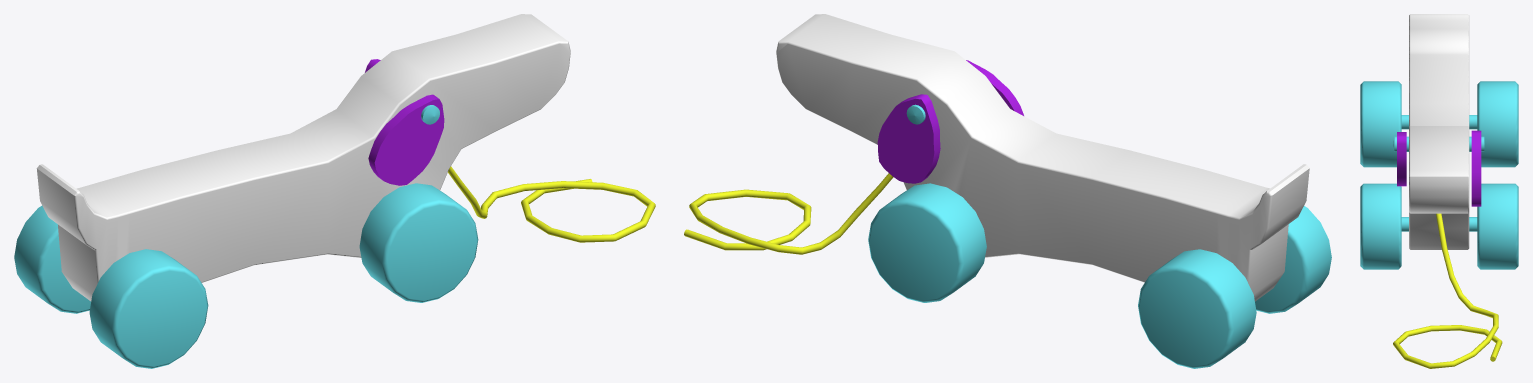
Rendered from toy_dog.fbx.
The picture shows the model from 3 angles, left to right: view 1: azimuth 30°, elevation 25°; view 2: azimuth 150°, elevation 25°; view 3: azimuth 270°, elevation 25°; orthographic projection. The views are drawn at different scales.
Parts seen in each view (by area): view 1: Plane006; view 2: Plane006; view 3: Plane006.
Part boxes in pixels (x1,y1,x2,y2): Plane006: [14, 14, 655, 368]; Plane006: [684, 14, 1331, 368]; Plane006: [1360, 14, 1518, 368].
Bounding box in the file's own units: 63.29 × 20.8 × 18.81.
